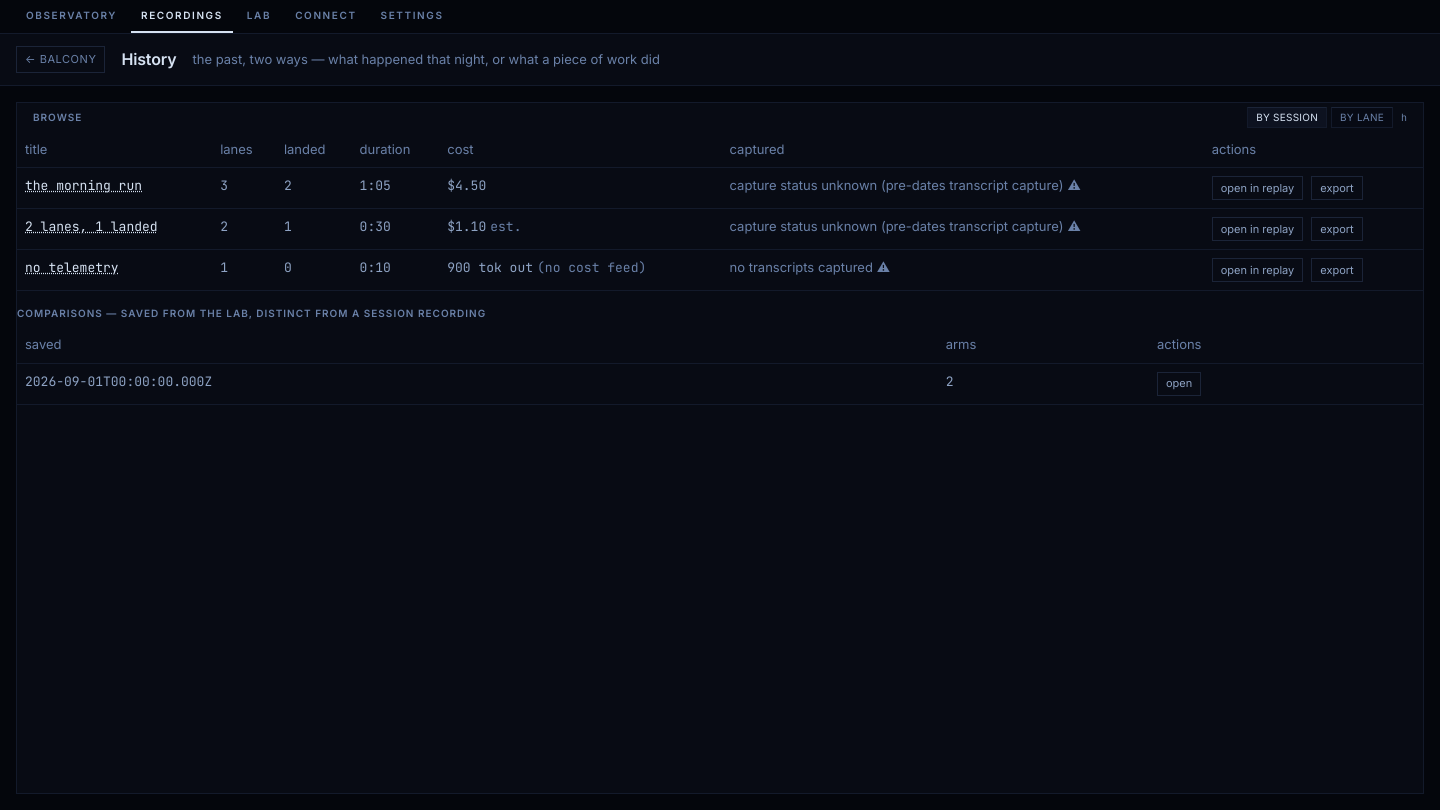
Scenario: RecordingsPage › comparisons (prd-14 ruling 5, #214) › an artifact from an older format version puts the parser's refusal on screen BY NAME when reopened — never an empty state, never a console error
The width and height of the screenshot is (1440, 810).
Expected: the table with test id "comparisons-table" is shown, [17,327,1423,404]
What coordinates should you click on to do the following:
click the button with test id "comparison-open-c1"
I would click on:
 (1179, 384)
Its box is [1157,372,1201,396].
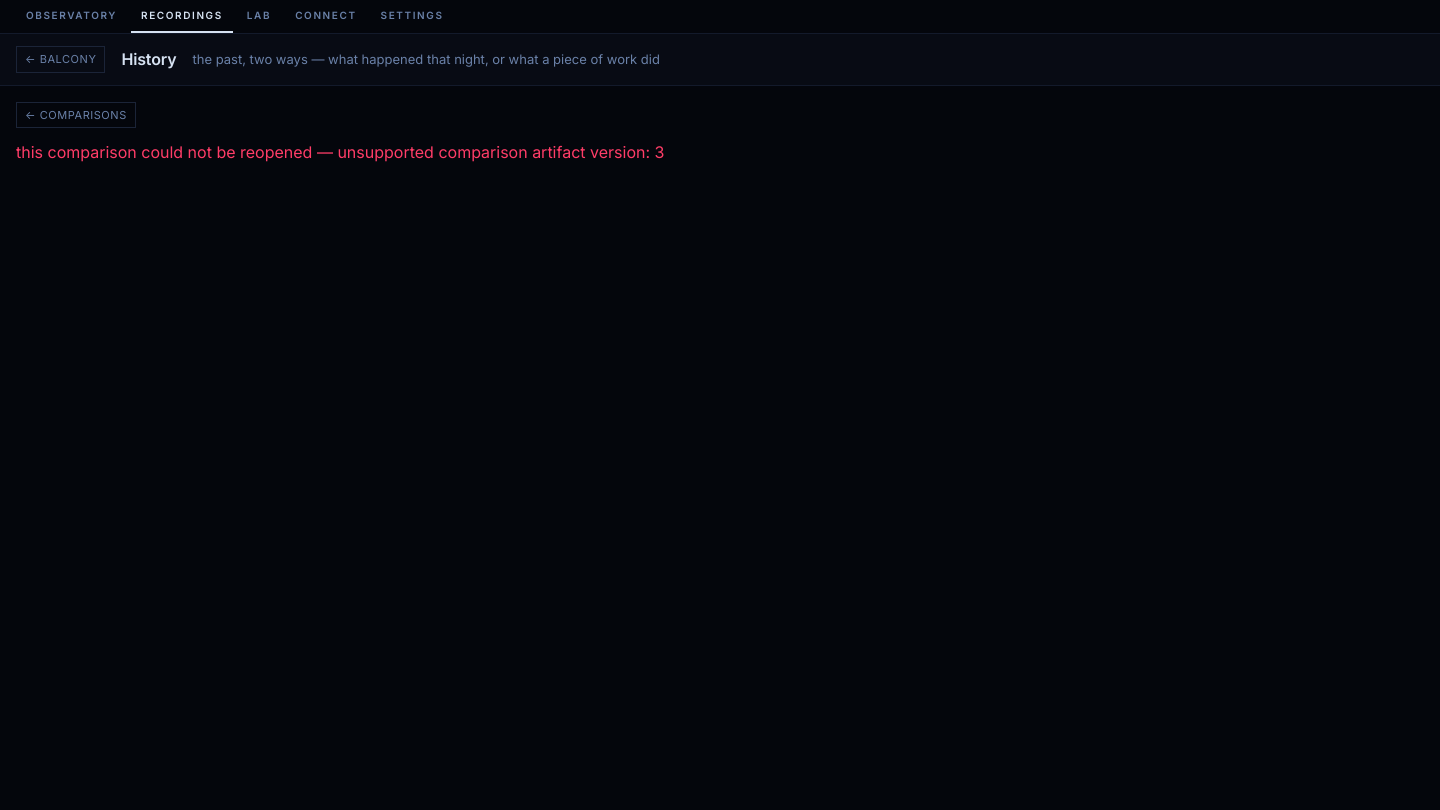
Expected: the message with test id "comparison-open-refused" is shown, [16,142,664,162]
Expected: the message with test id "comparison-open-refused" shows "unsupported comparison artifact version: 3", [337,142,664,162]
